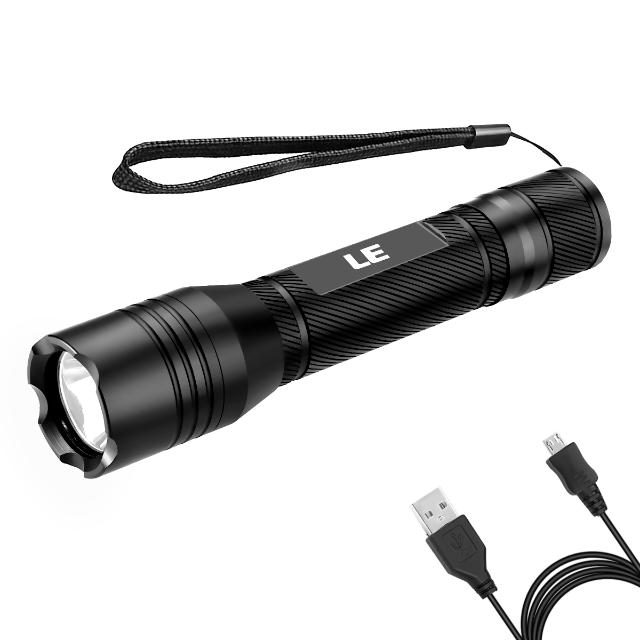Flashlight: (18, 114, 616, 490)
